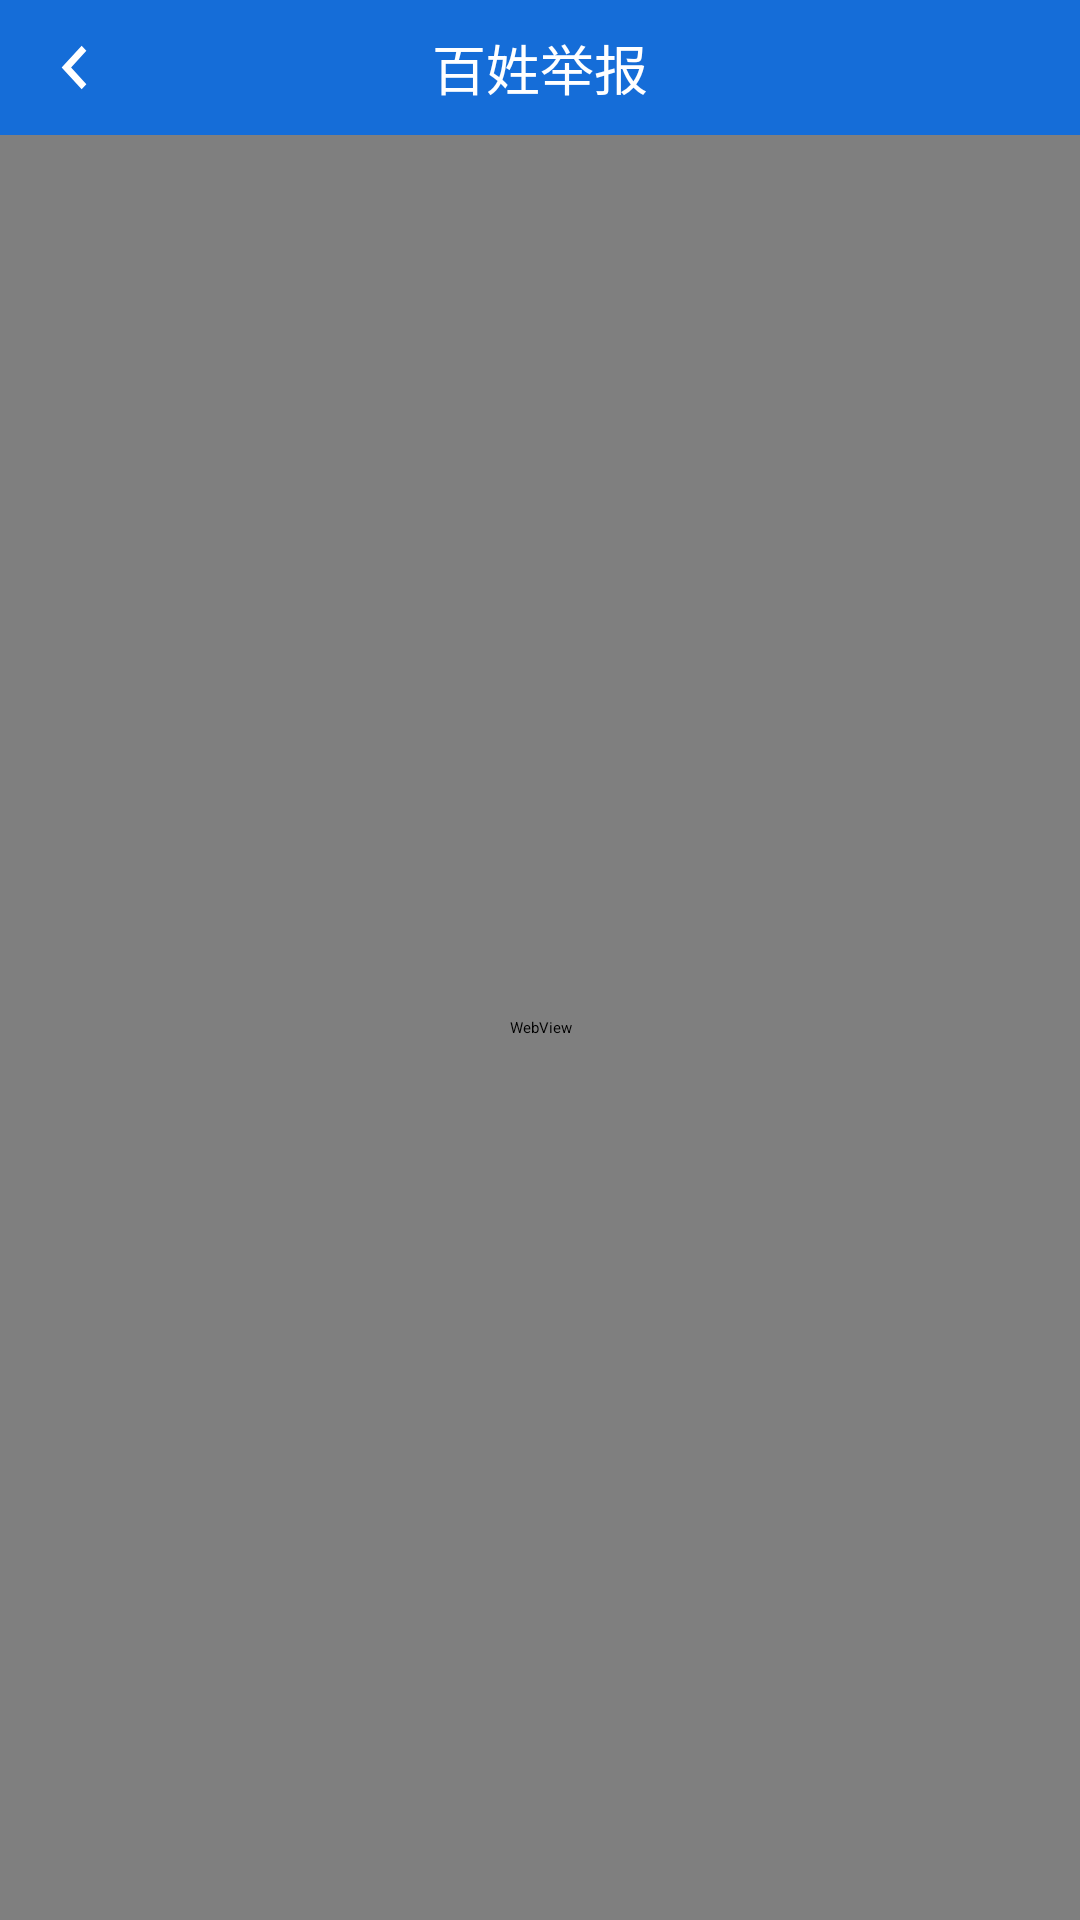

Locate icon controls on the screen. Image size 1080w x 1920h, boxes as (x1, y1, x2, y2).
left: (62, 46, 87, 89)
